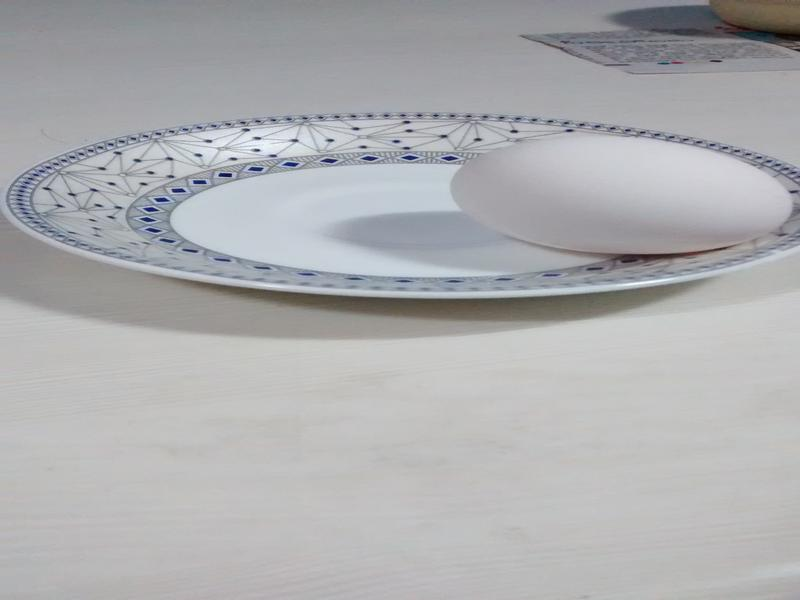egg: (450, 134, 795, 259)
